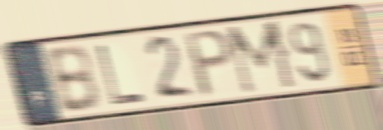2: (145, 32, 197, 106)
9: (287, 19, 332, 85)
B: (42, 42, 103, 117)
L: (93, 42, 148, 108)
M: (223, 17, 300, 98)
P: (182, 27, 236, 102)
